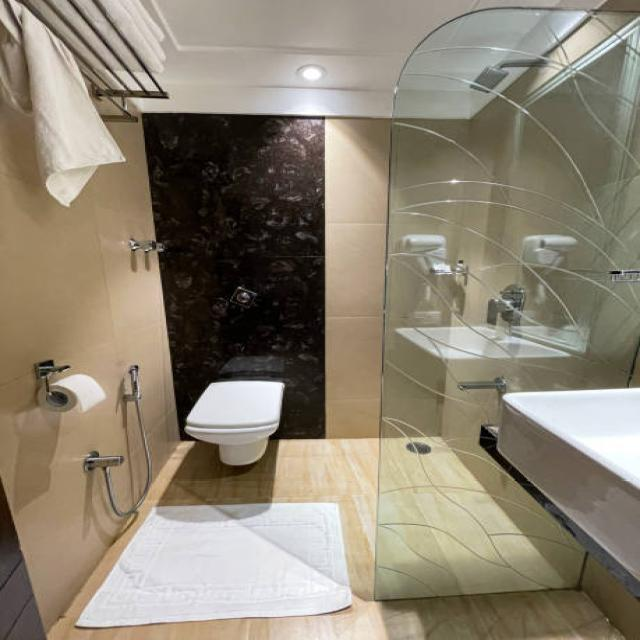bulb_on: (298, 60, 324, 90)
